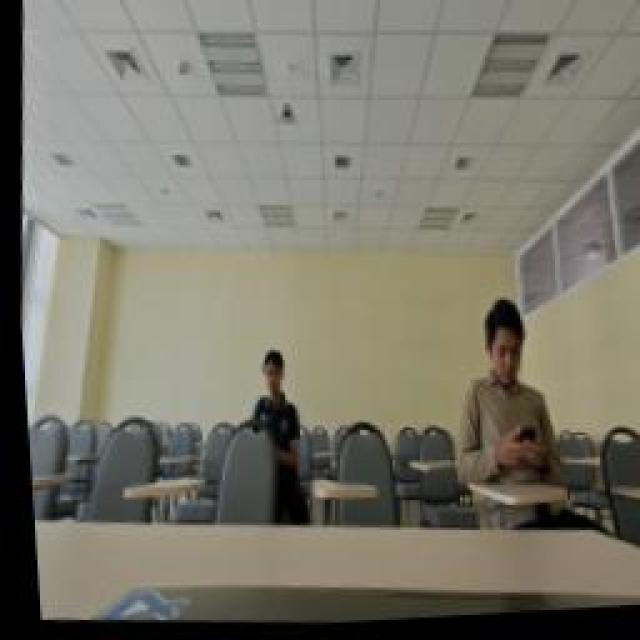phone: (433, 275, 565, 495)
study: (238, 340, 300, 462)
